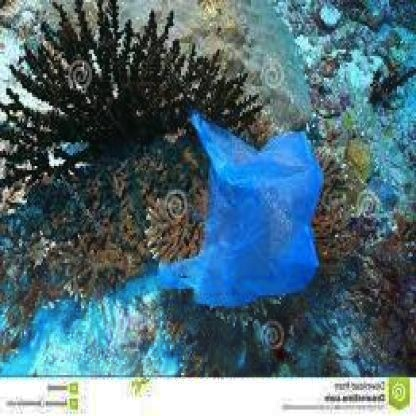pbag: (157, 110, 327, 306)
